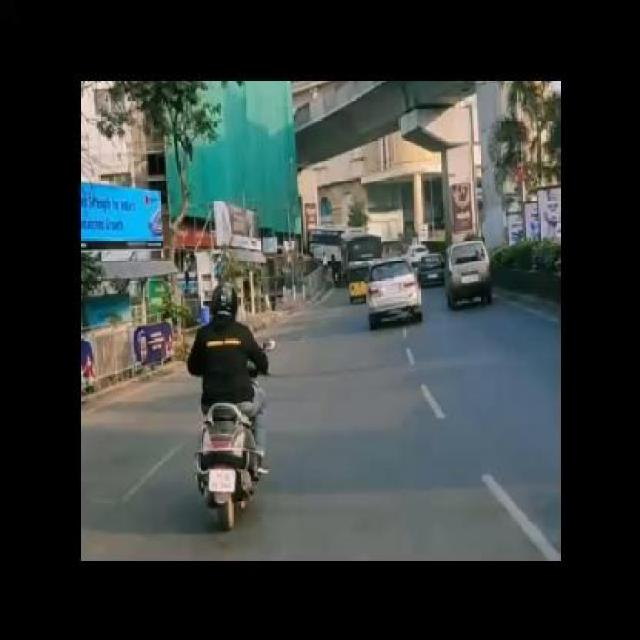car: (365, 257, 423, 331), (445, 235, 495, 311), (417, 251, 445, 288)
motorbike: (188, 302, 269, 531)
